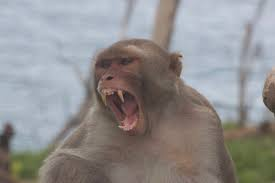monkey: (75, 23, 219, 179)
